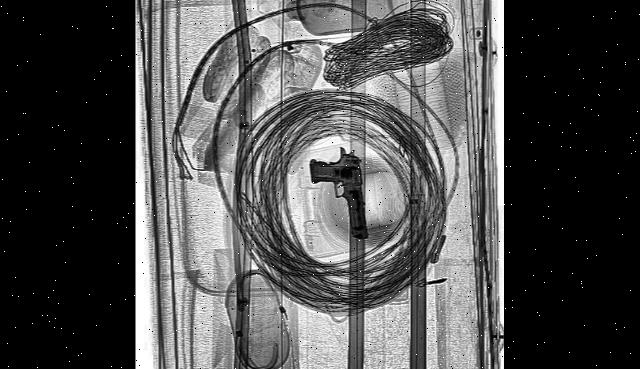Gun: (309, 149, 366, 246)
